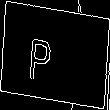P_N: (42, 27, 68, 83)
